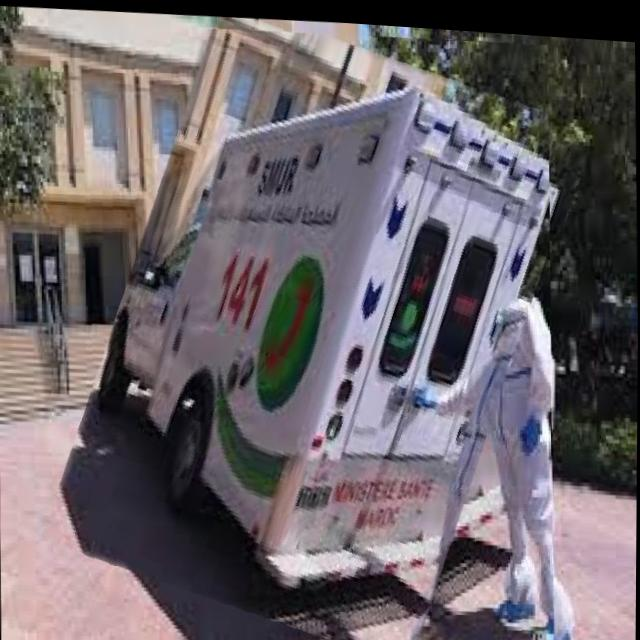ambulance: (73, 12, 558, 640)
